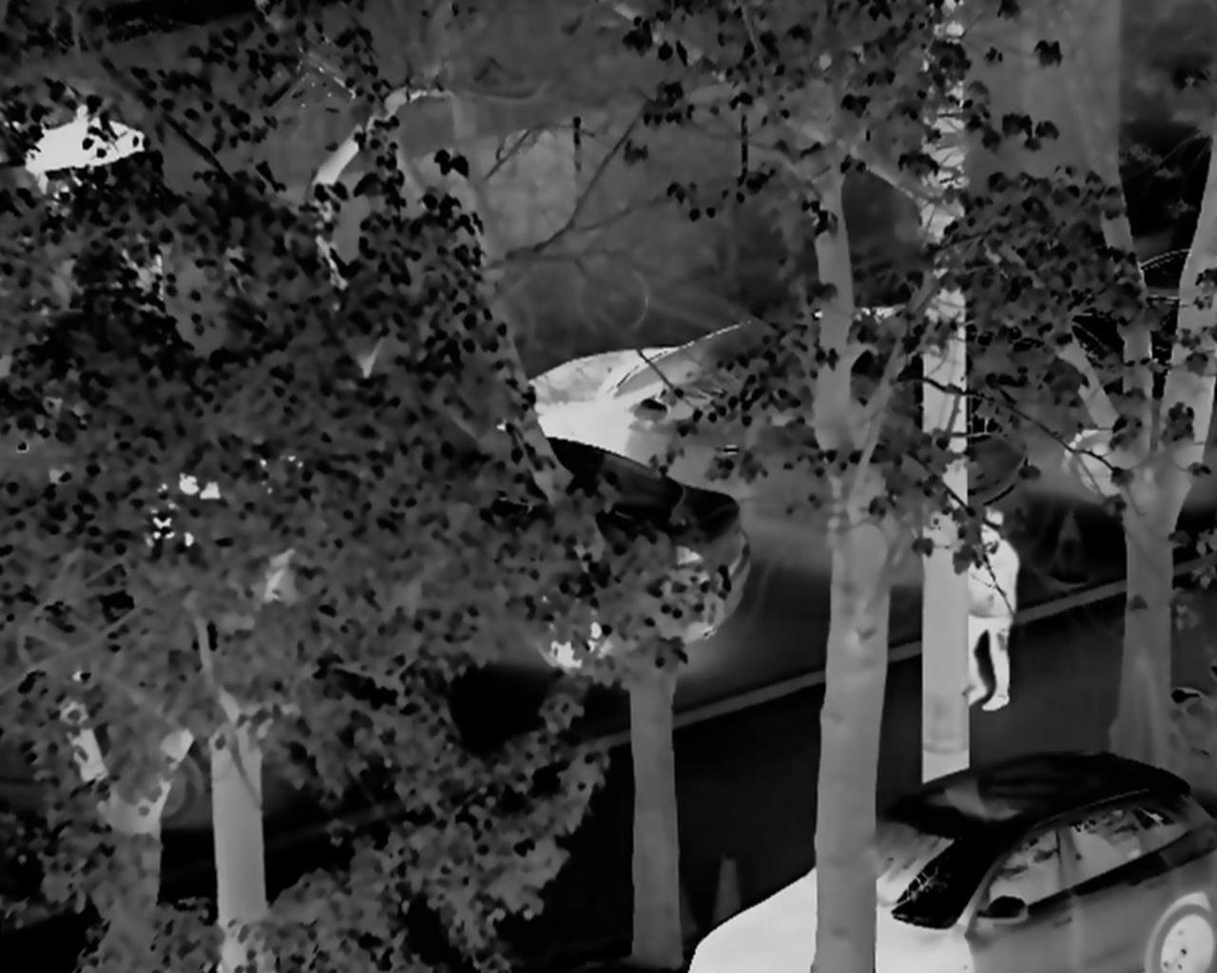person: (951, 507, 1024, 717)
